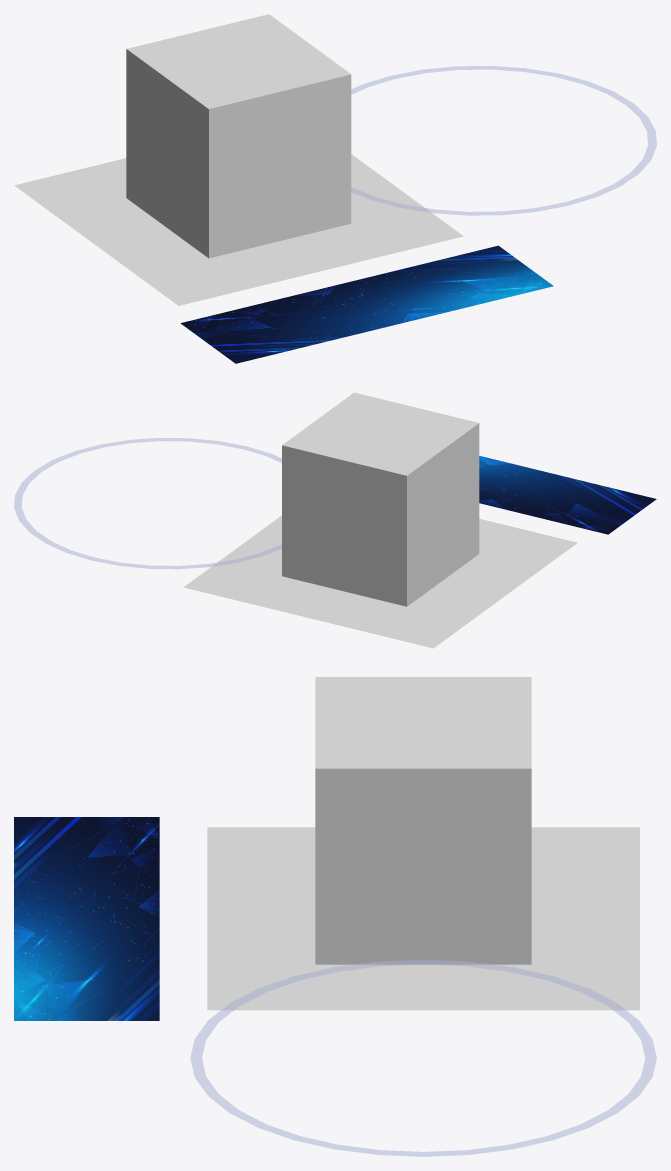
File: Dev.glb
The picture shows the model from 3 angles, top to bottom: view 1: azimuth 30°, elevation 25°; view 2: azimuth 150°, elevation 25°; view 3: azimuth 270°, elevation 25°; orthographic projection. The views are drawn at different scales.
Visible parts, largest first — view 1: Cube, Plane, Plane.001, Circle; view 2: Cube, Plane, Plane.001, Circle; view 3: Cube, Plane, Plane.001, Circle.
Boxes of the visible parts, left/top/right/bottom form: Cube: left=126, top=14, right=351, bottom=258; Plane: left=14, top=154, right=463, bottom=305; Plane.001: left=180, top=245, right=553, bottom=363; Circle: left=351, top=66, right=656, bottom=215; Cube: left=282, top=392, right=479, bottom=606; Plane: left=183, top=515, right=577, bottom=648; Plane.001: left=479, top=456, right=656, bottom=534; Circle: left=14, top=438, right=281, bottom=569; Cube: left=315, top=677, right=531, bottom=964; Plane: left=207, top=827, right=639, bottom=1010; Plane.001: left=14, top=817, right=159, bottom=1020; Circle: left=190, top=959, right=656, bottom=1156.
Size of the model in its own units: 7.76 by 2 by 5.94.
4 materials, 1 textured.
